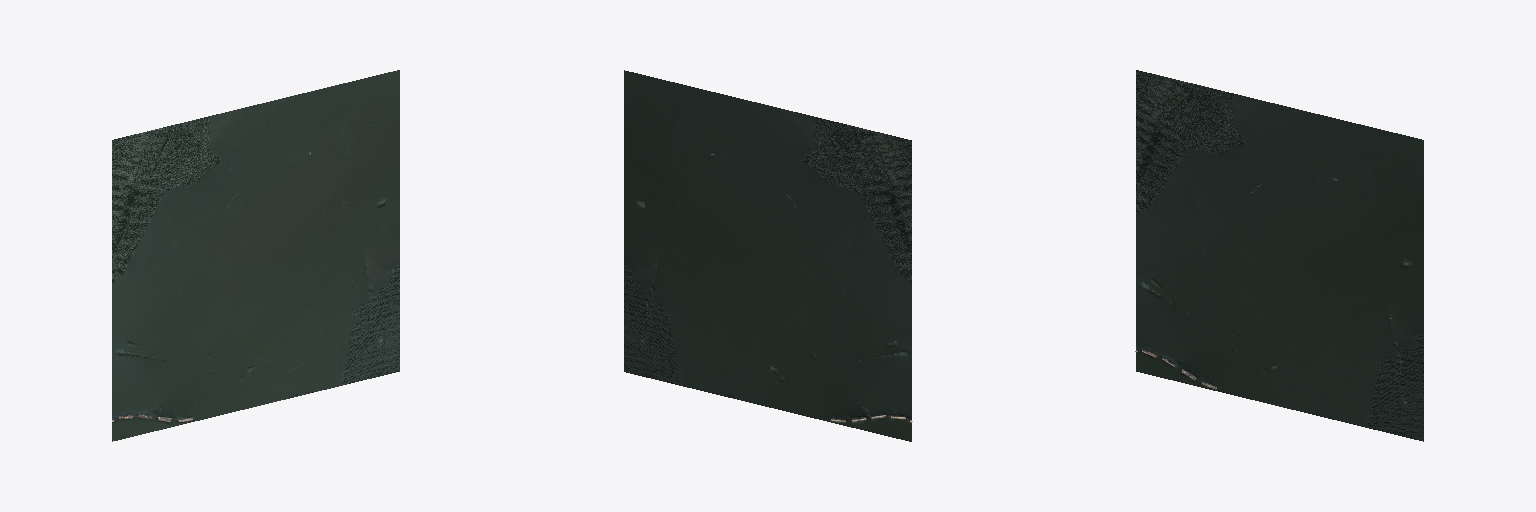
The picture shows the model from 3 angles: view 1: azimuth 30°, elevation 25°; view 2: azimuth 150°, elevation 25°; view 3: azimuth 330°, elevation 25°; orthographic projection.
Size of the model in its own units: 252 by 252 by 3.49.
Materials: 2 (1 with a texture image).